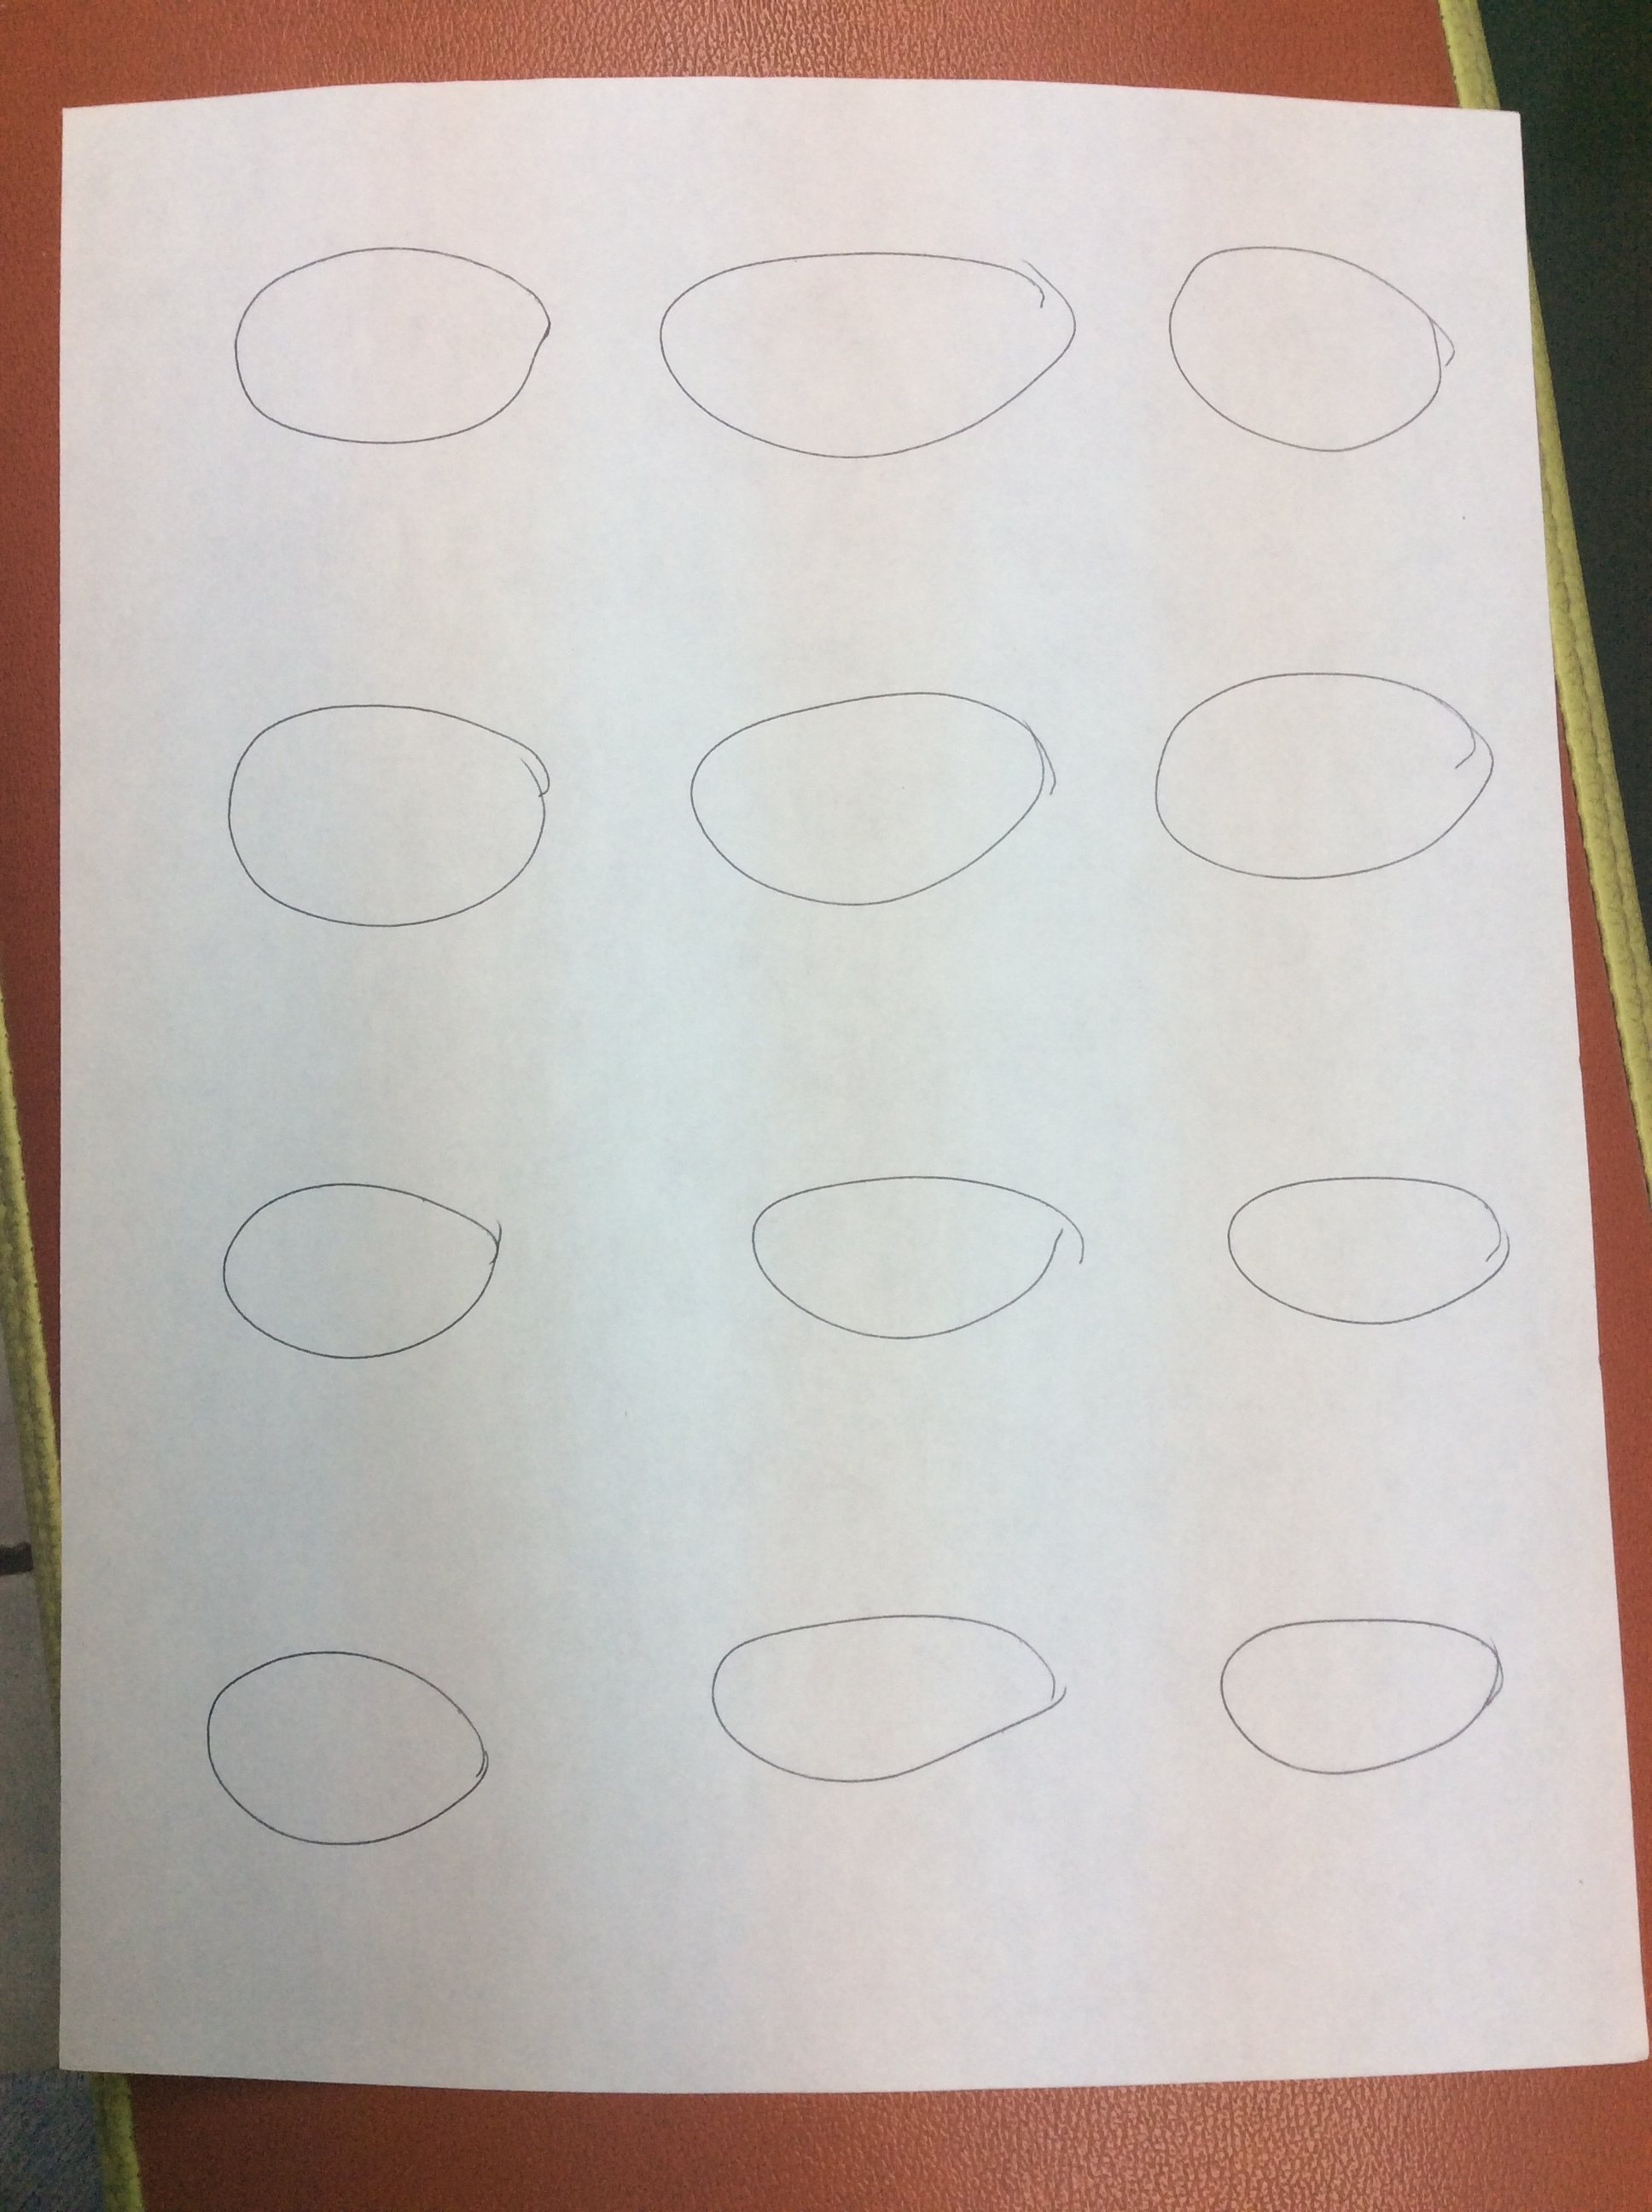start_end: (619, 212, 1093, 484), (658, 666, 1078, 928), (1124, 635, 1517, 914), (179, 673, 571, 946), (658, 1591, 1097, 1823), (158, 1608, 510, 1881), (705, 1133, 1118, 1362), (182, 1133, 534, 1397), (1145, 201, 1477, 477), (196, 226, 567, 461), (1170, 1580, 1541, 1799), (1196, 1136, 1534, 1351)
